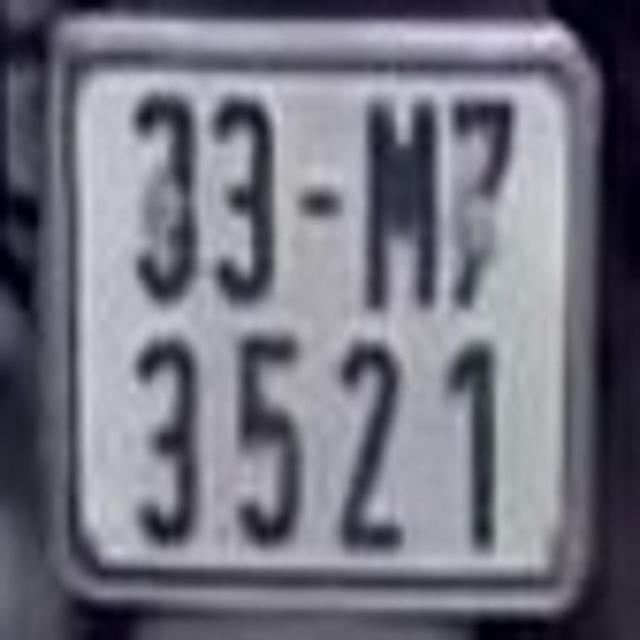1: (444, 339, 508, 552)
2: (338, 336, 406, 552)
3: (211, 98, 276, 302), (134, 94, 198, 300), (136, 338, 200, 543)
5: (236, 334, 304, 545)
7: (449, 94, 515, 309)
M: (363, 92, 440, 311)
